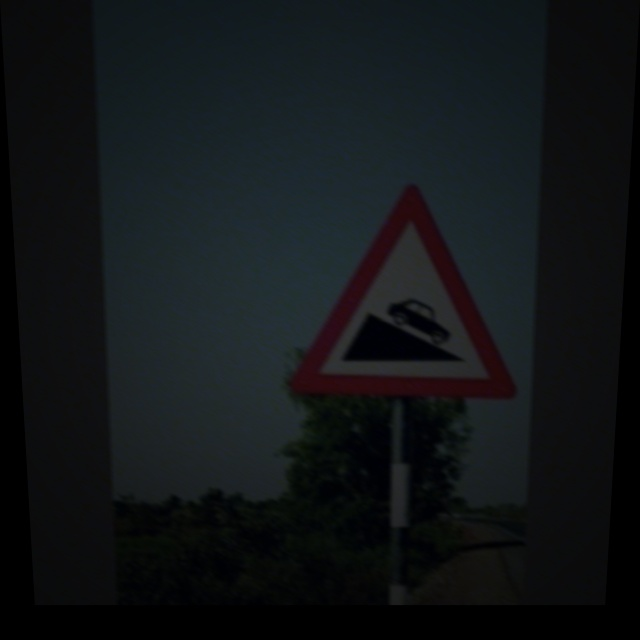Steep_Descent: (290, 185, 525, 398)
